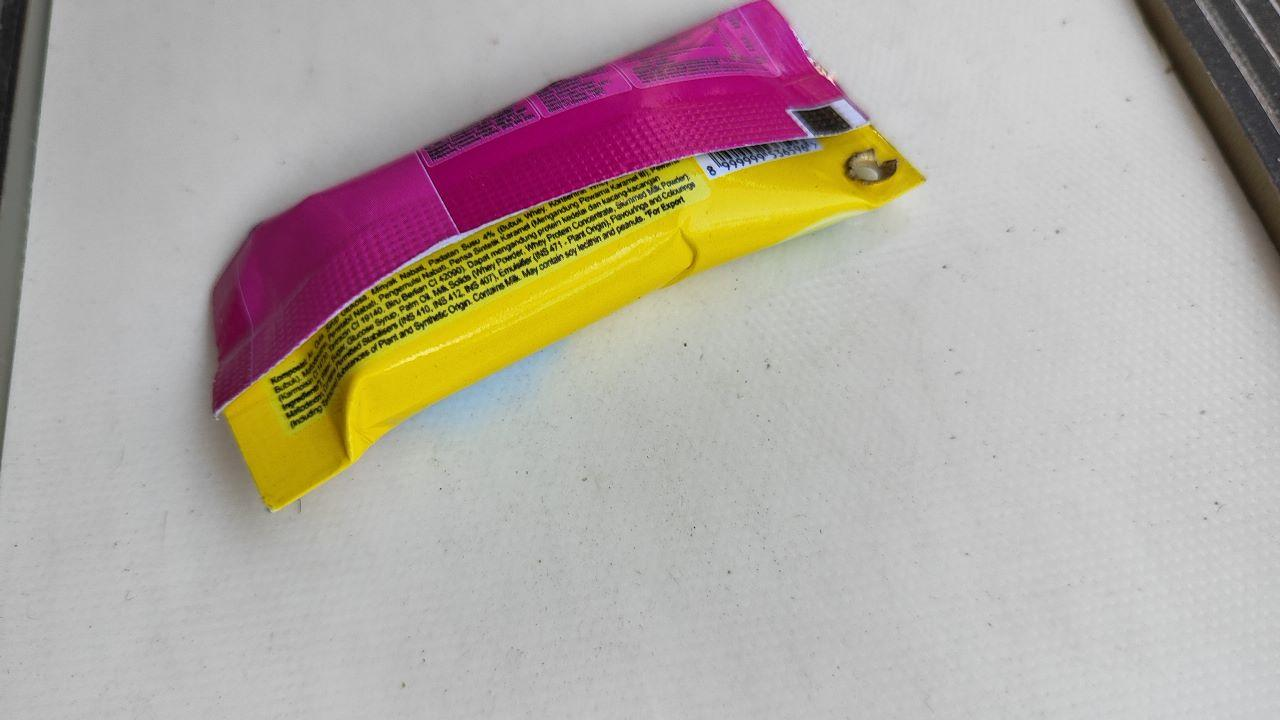Plastik: (210, 0, 929, 517)
